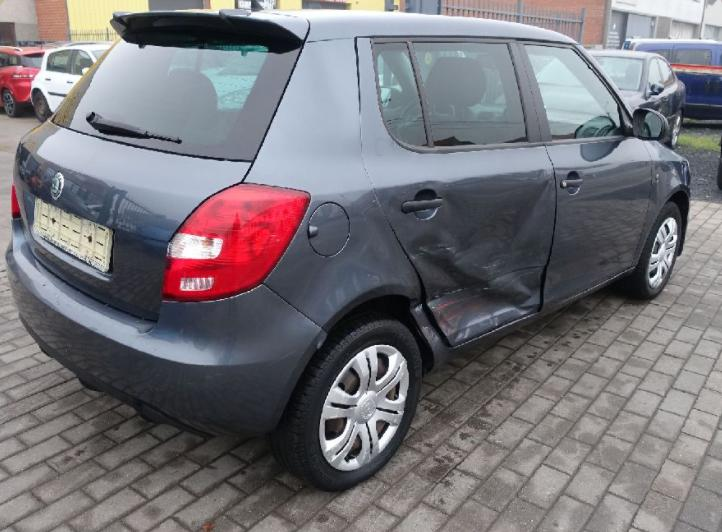Back-bumper: (5, 219, 327, 439)
Back-door: (356, 37, 556, 345)
Back-wheel: (270, 308, 422, 490)
Back-window: (413, 43, 527, 144), (373, 42, 428, 144)
Back-windshield: (54, 30, 302, 160)
Fender: (633, 141, 690, 268)
Front-door: (517, 41, 652, 310)
Front-wheel: (621, 203, 682, 297)
Front-window: (524, 44, 620, 140)
Mirror: (632, 109, 669, 142)
Quarter-panel: (264, 189, 446, 353)
Rocker-panel: (430, 275, 624, 370)
Roof: (255, 9, 578, 43)
Tail-light: (162, 184, 310, 301), (11, 182, 21, 219)
Trunk: (14, 121, 252, 320), (113, 8, 309, 39)
